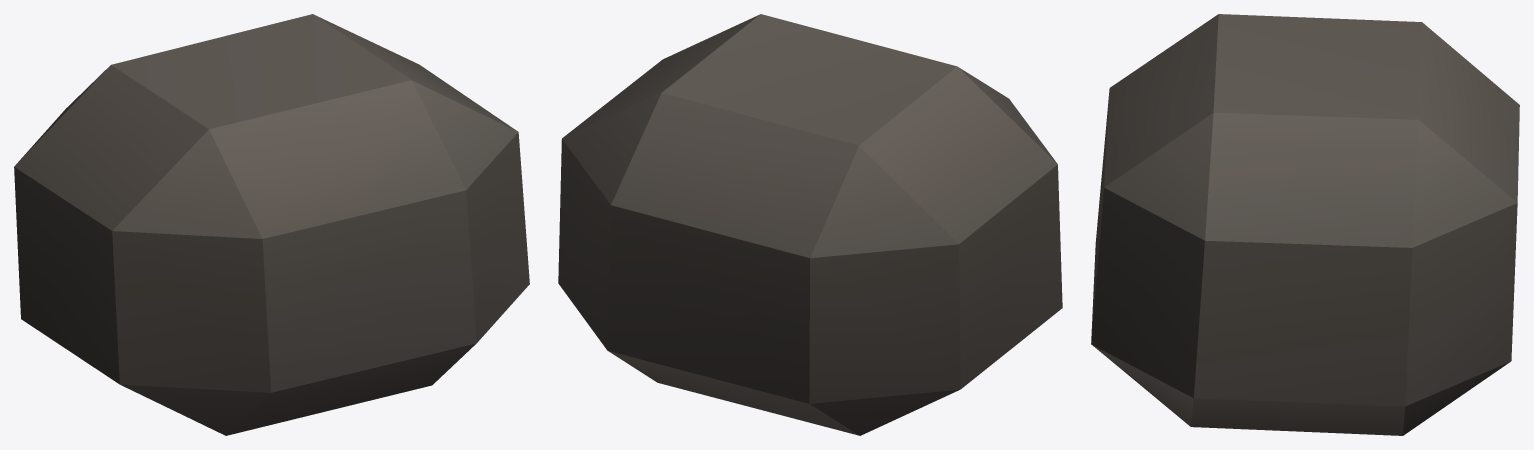
Rendered from Pebble_A.fbx.
3 views of the same model, side by side, from view 1: azimuth 30°, elevation 25°; view 2: azimuth 150°, elevation 25°; view 3: azimuth 270°, elevation 25° (orthographic). The views are drawn at different scales.
Visible parts, largest first — view 1: Pebble_A; view 2: Pebble_A; view 3: Pebble_A.
Part boxes in pixels (x1=…): Pebble_A: x1=14, y1=14, x2=529, y2=435; Pebble_A: x1=558, y1=14, x2=1062, y2=435; Pebble_A: x1=1091, y1=14, x2=1519, y2=435.
Bounding box in the file's own units: 6.06 × 5.31 × 4.37.
1 material, 1 textured.
